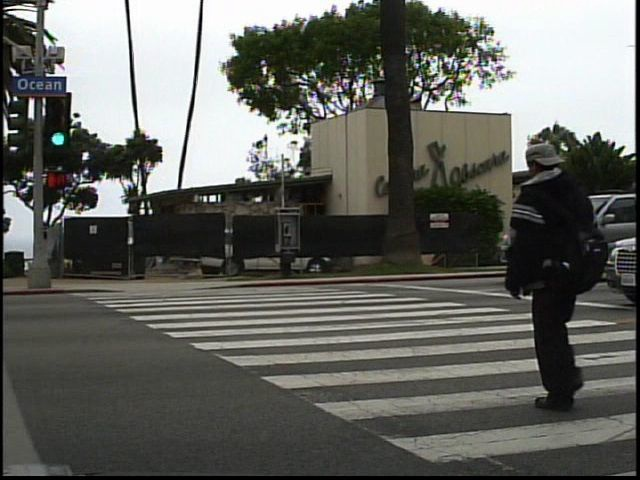person: (503, 137, 607, 412)
